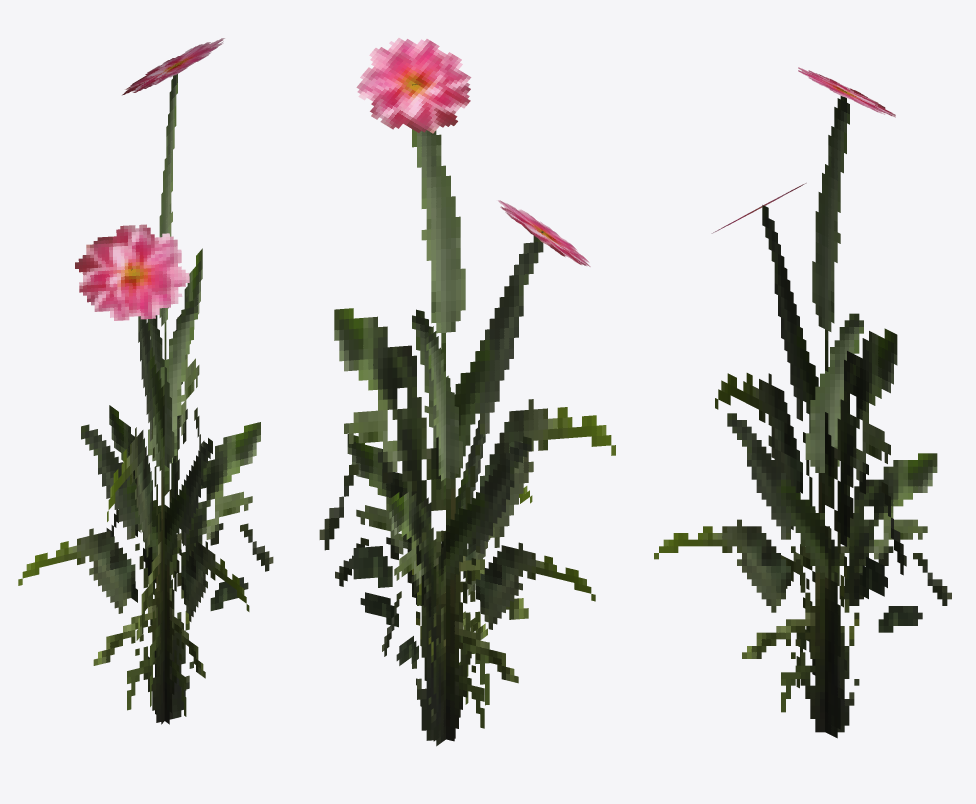
File: Flower_A1.fbx
3 views of the same model, side by side, from view 1: azimuth 30°, elevation 25°; view 2: azimuth 150°, elevation 25°; view 3: azimuth 270°, elevation 25° (orthographic). The views are drawn at different scales.
Visible parts, largest first — view 1: Flower_A1; view 2: Flower_A1; view 3: Flower_A1.
Boxes of the visible parts, <box> form: Flower_A1: <box>18,38,273,724</box>; Flower_A1: <box>319,38,615,746</box>; Flower_A1: <box>654,67,951,738</box>.
Size of the model in its own units: 0.24 by 0.5849 by 0.24.
